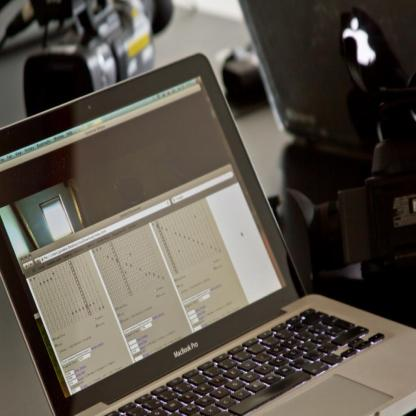board: (0, 53, 416, 416), (237, 0, 416, 158)
